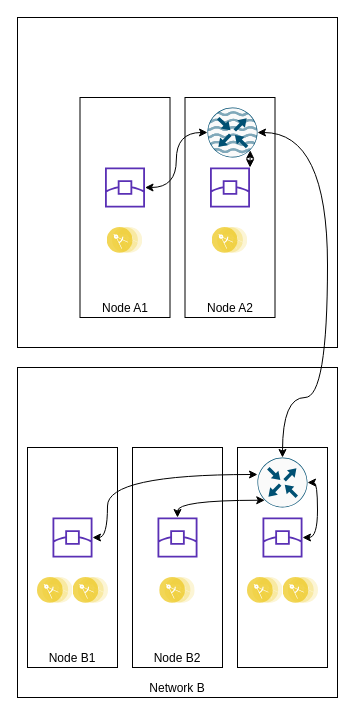
Image size: 355x715. Some labels were removed from this diagram. The shapes that lost their labels are listed below. From the top down, each one's box as (x1, y1, x2, y2) in pixels, then its label:
(16, 16, 338, 348): Network A
(236, 446, 328, 668): Node B3
